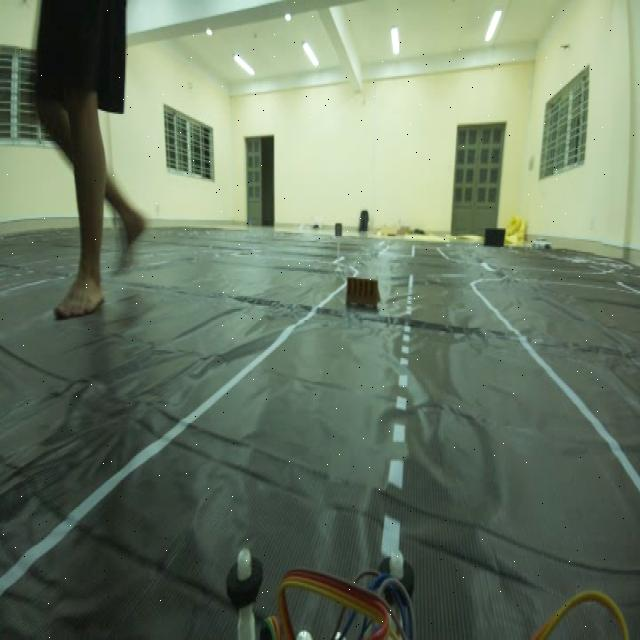roadblock: (343, 272, 385, 320)
